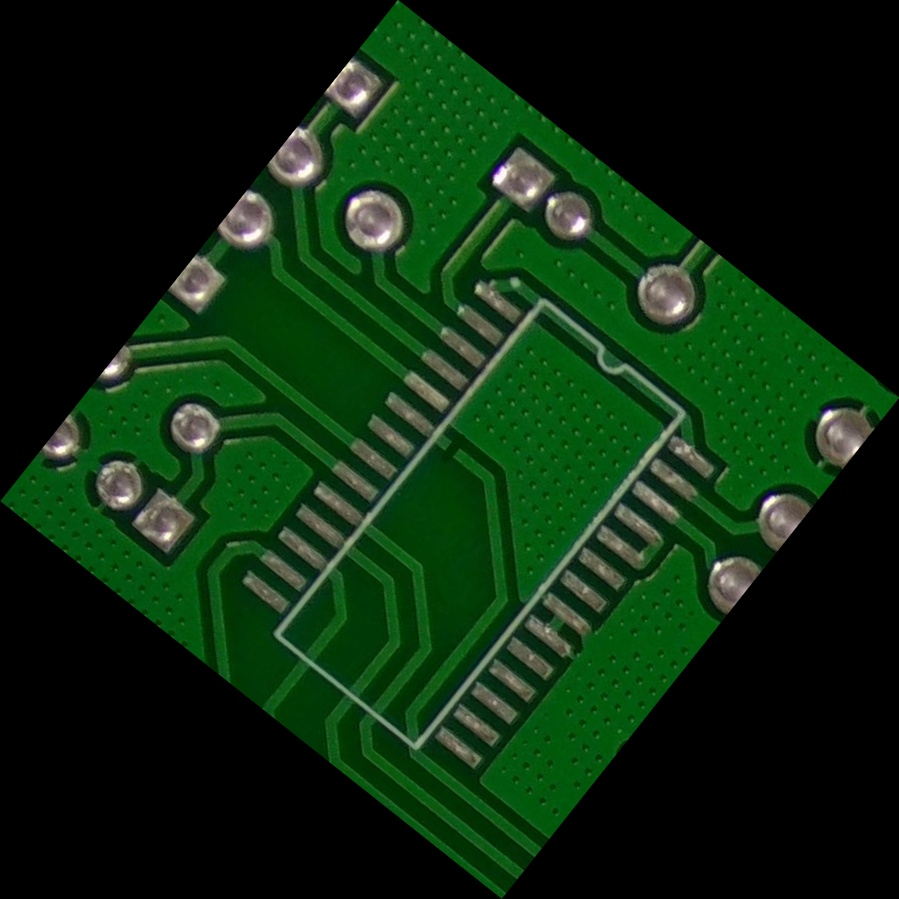open_circuit: (431, 432, 468, 469)
